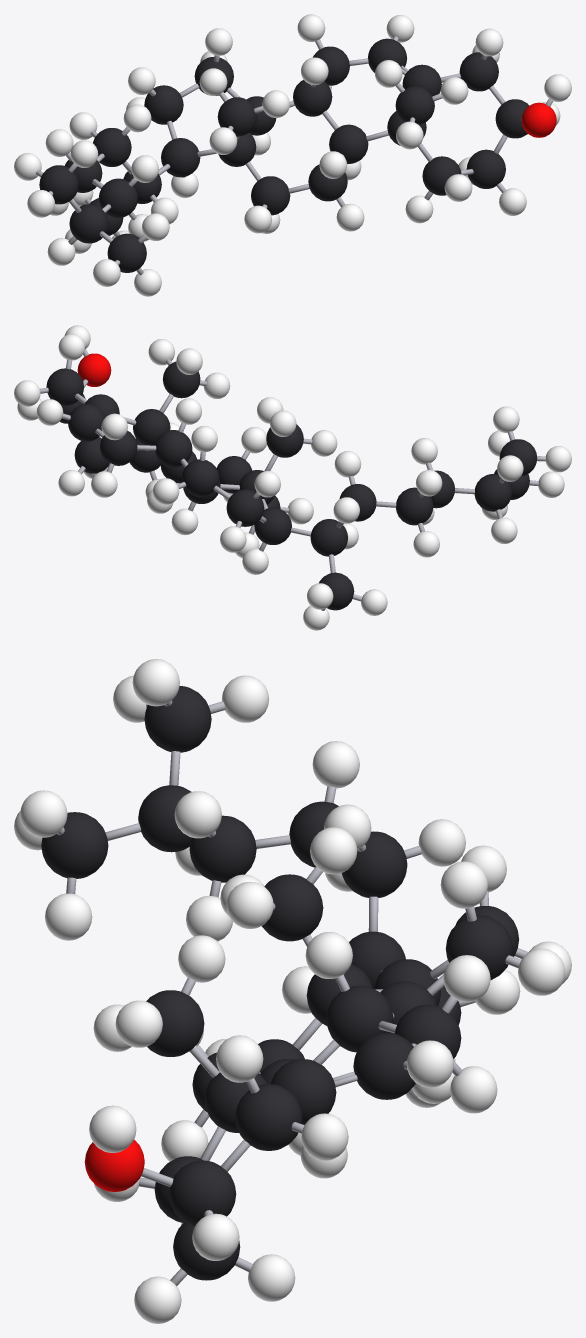
File: cholesterol.glb
The picture shows the model from 3 angles, top to bottom: view 1: azimuth 30°, elevation 25°; view 2: azimuth 150°, elevation 25°; view 3: azimuth 270°, elevation 25°; orthographic projection. The views are drawn at different scales.
Visible parts, largest first — view 1: C22, C8, C5, C4, C26, C24, C9, C27, C7, C13, C15, C2 (+47 smaller); view 2: C10, C16, C1, C9, C5, C24, C3, C8, C18, C20, C17, C26 (+44 smaller); view 3: C24, C23, C7, C18, C6, C4, C16, C27, C2, C26, C10, C19 (+44 smaller).
Part boxes in pixels (x1,y1,x2,y2): C22: (466, 149, 505, 188); C8: (161, 138, 200, 177); C5: (69, 204, 108, 243); C4: (98, 178, 137, 217); C26: (395, 86, 434, 124); C24: (459, 52, 498, 91); C9: (144, 85, 183, 124); C27: (217, 97, 256, 136); C7: (107, 233, 146, 272); C13: (251, 176, 290, 215); C15: (329, 124, 368, 163); C2: (93, 128, 131, 166); C10: (182, 459, 219, 496); C16: (155, 430, 192, 467); C1: (310, 519, 347, 556); C9: (226, 489, 263, 526); C5: (474, 474, 511, 511); C24: (46, 368, 83, 405); C3: (396, 487, 433, 525); C8: (254, 507, 291, 544); C18: (68, 404, 104, 441); C20: (133, 409, 170, 445); C17: (100, 431, 137, 465); C26: (162, 361, 200, 398); C24: (235, 1084, 302, 1150); C23: (169, 1160, 236, 1226); C7: (41, 812, 108, 878); C18: (353, 1033, 415, 1099); C6: (144, 686, 211, 752); C4: (189, 815, 256, 882); C16: (326, 985, 393, 1052); C27: (261, 874, 323, 941); C2: (341, 831, 407, 897); C26: (146, 990, 204, 1056); C10: (445, 915, 512, 979); C19: (270, 1059, 336, 1124).
Size of the model in its own units: 16.51 by 5.79 by 8.47.
